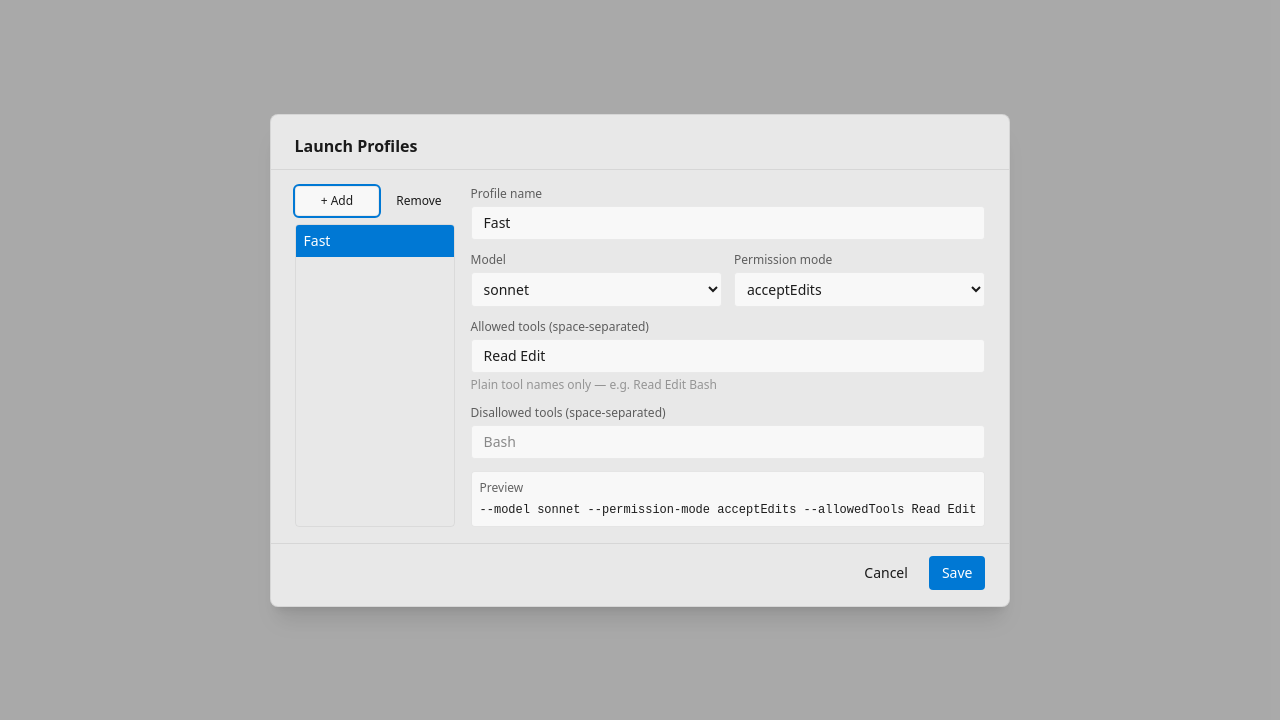
Test: ProfileManagerDialog › can add a new profile
Expected: the option "Fast" is shown, [296, 224, 454, 256]
Click the button "+ Add" at (337, 200), box [294, 186, 379, 216]
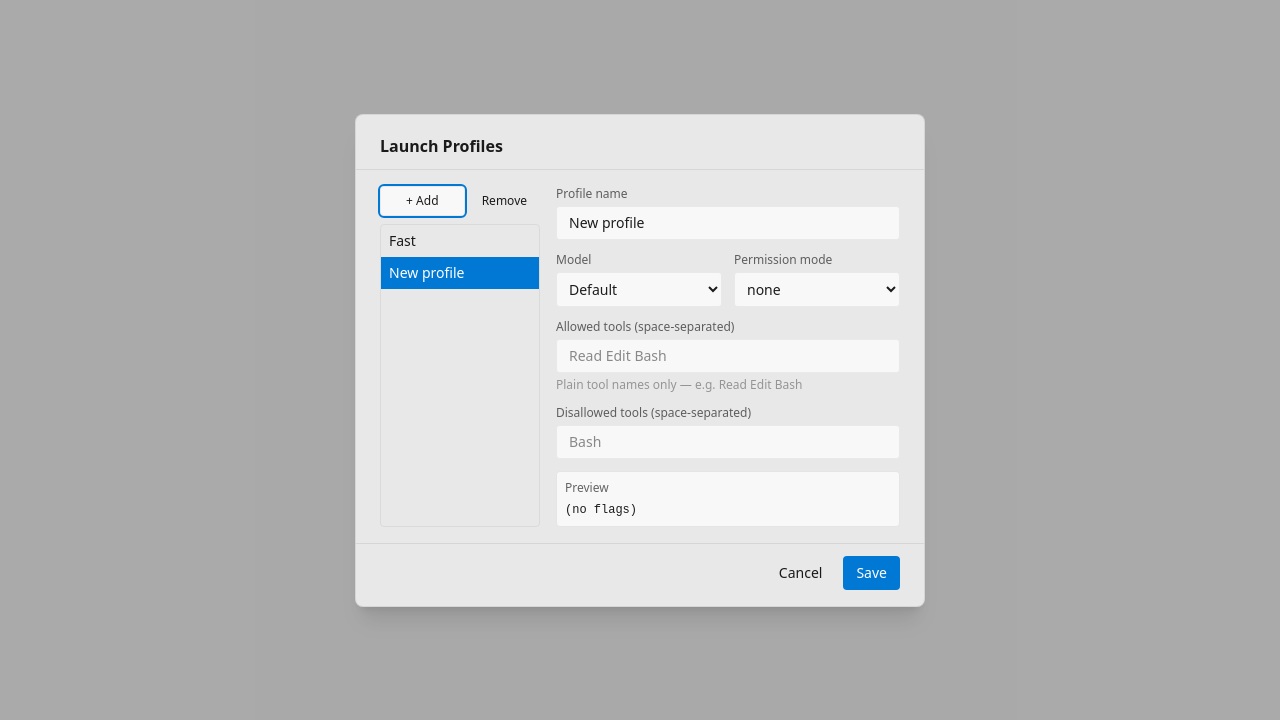
Expected: the option "New profile" is shown, [381, 256, 539, 288]
